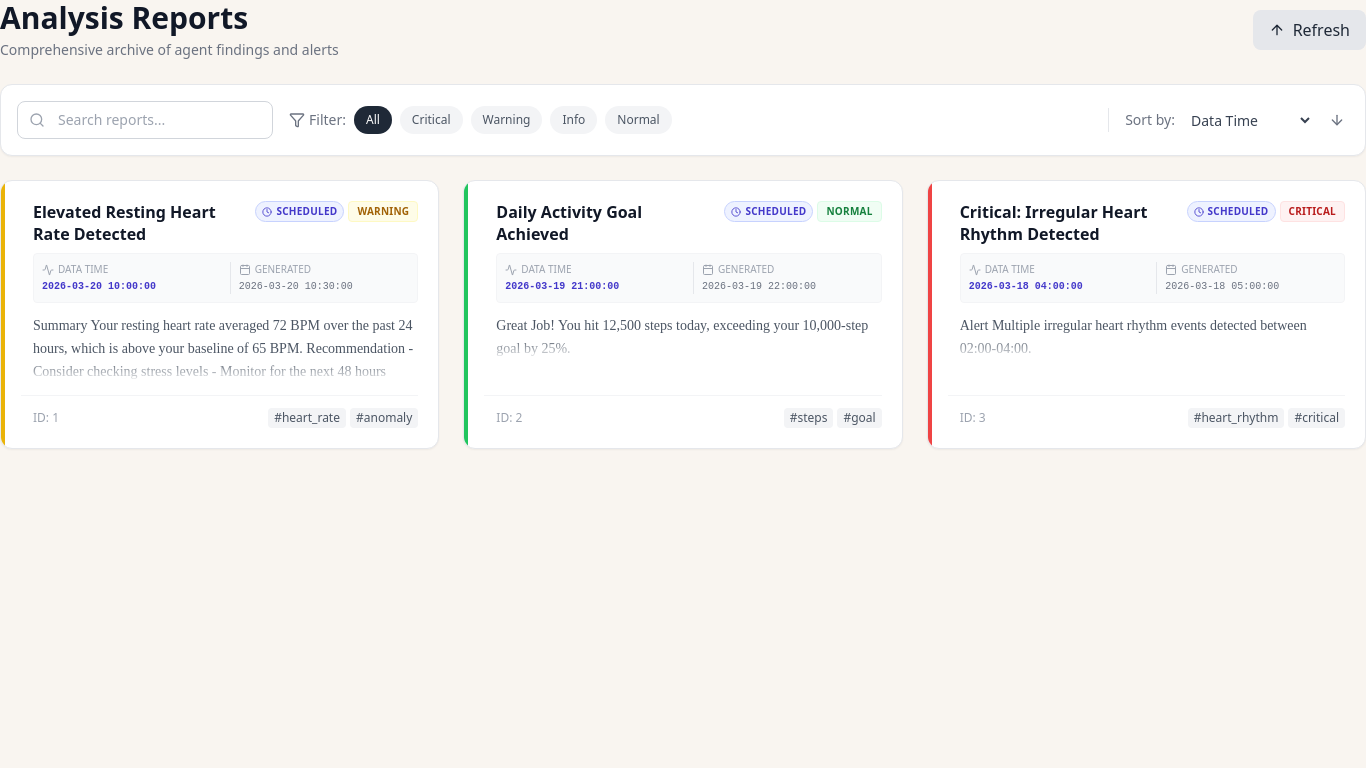
Test case: ReportsView › opens a report modal when a report card is clicked
# Click the report card
Click the heading "Elevated Resting Heart Rate Detected". click: (140, 223)
box: [33,201,247,245]
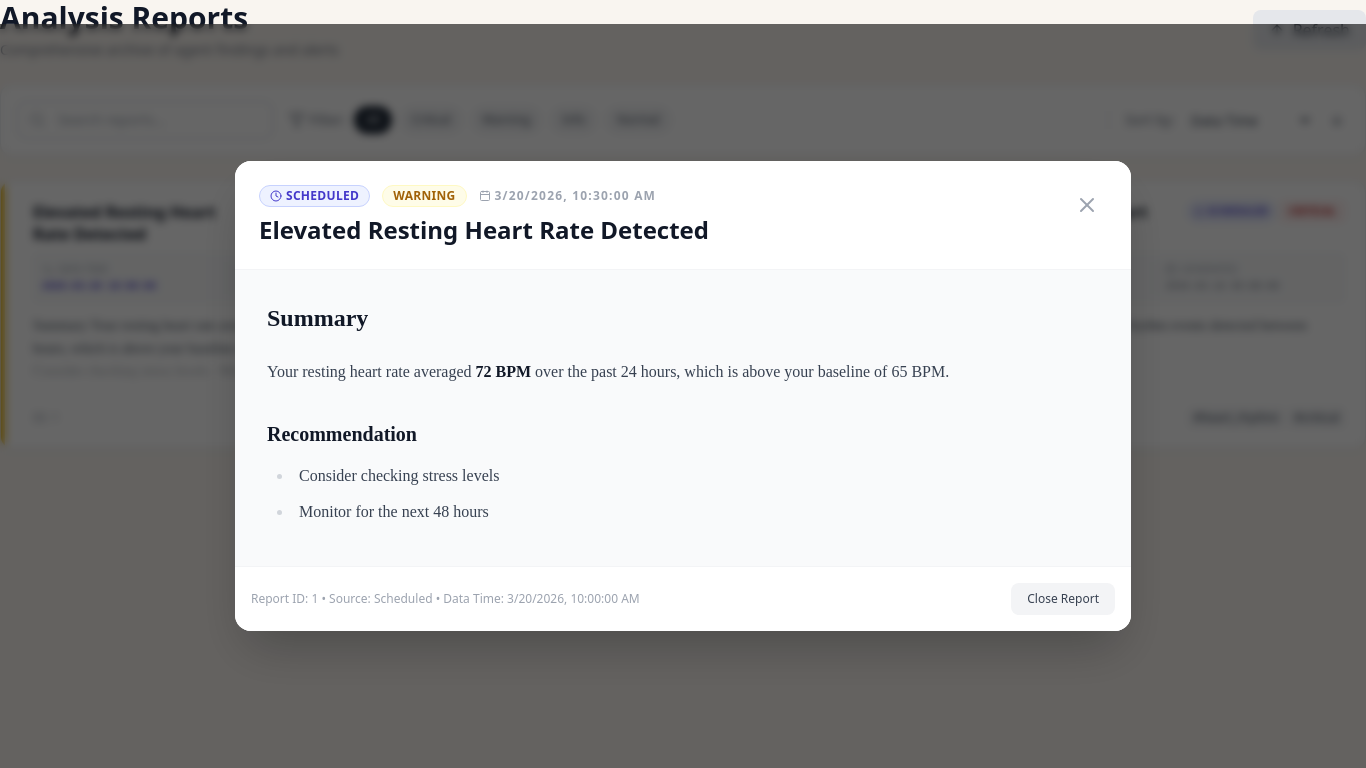
Now the button "Close Report" is shown, box [1011,583,1115,615]
